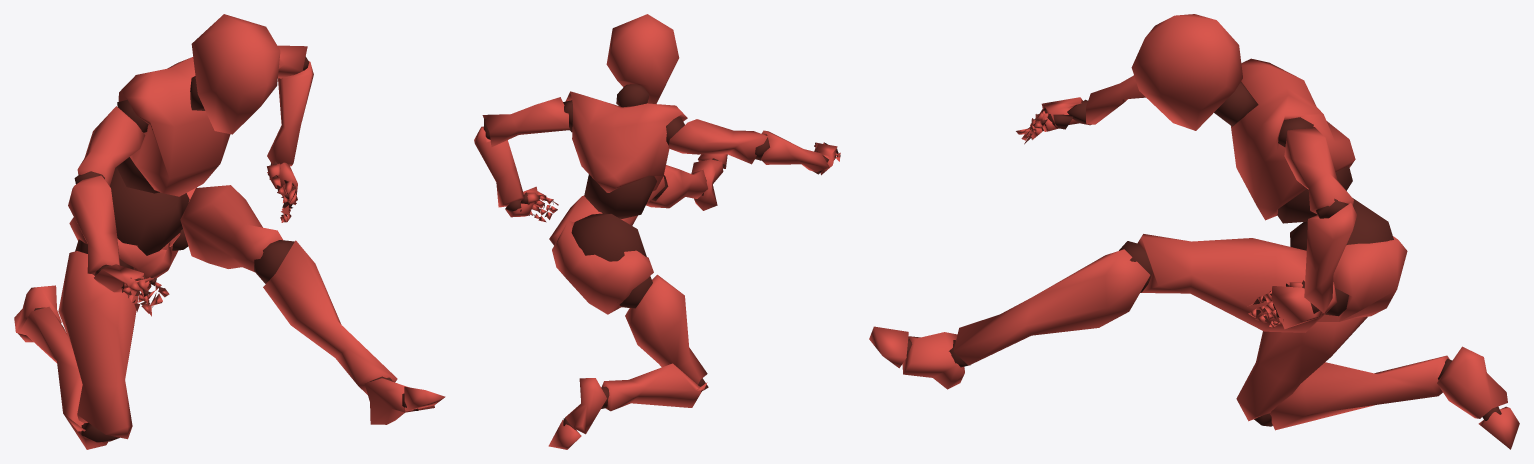
3 views of the same model, side by side, from view 1: azimuth 30°, elevation 25°; view 2: azimuth 150°, elevation 25°; view 3: azimuth 270°, elevation 25° (orthographic). The views are drawn at different scales.
Visible parts, largest first — view 1: Beta_Surface; view 2: Beta_Surface; view 3: Beta_Surface.
Boxes of the visible parts, x1=… form: Beta_Surface: x1=14, y1=14, x2=445, y2=449; Beta_Surface: x1=474, y1=14, x2=840, y2=449; Beta_Surface: x1=869, y1=14, x2=1519, y2=449.
Size of the model in its own units: 8.18 by 10.08 by 12.8.
